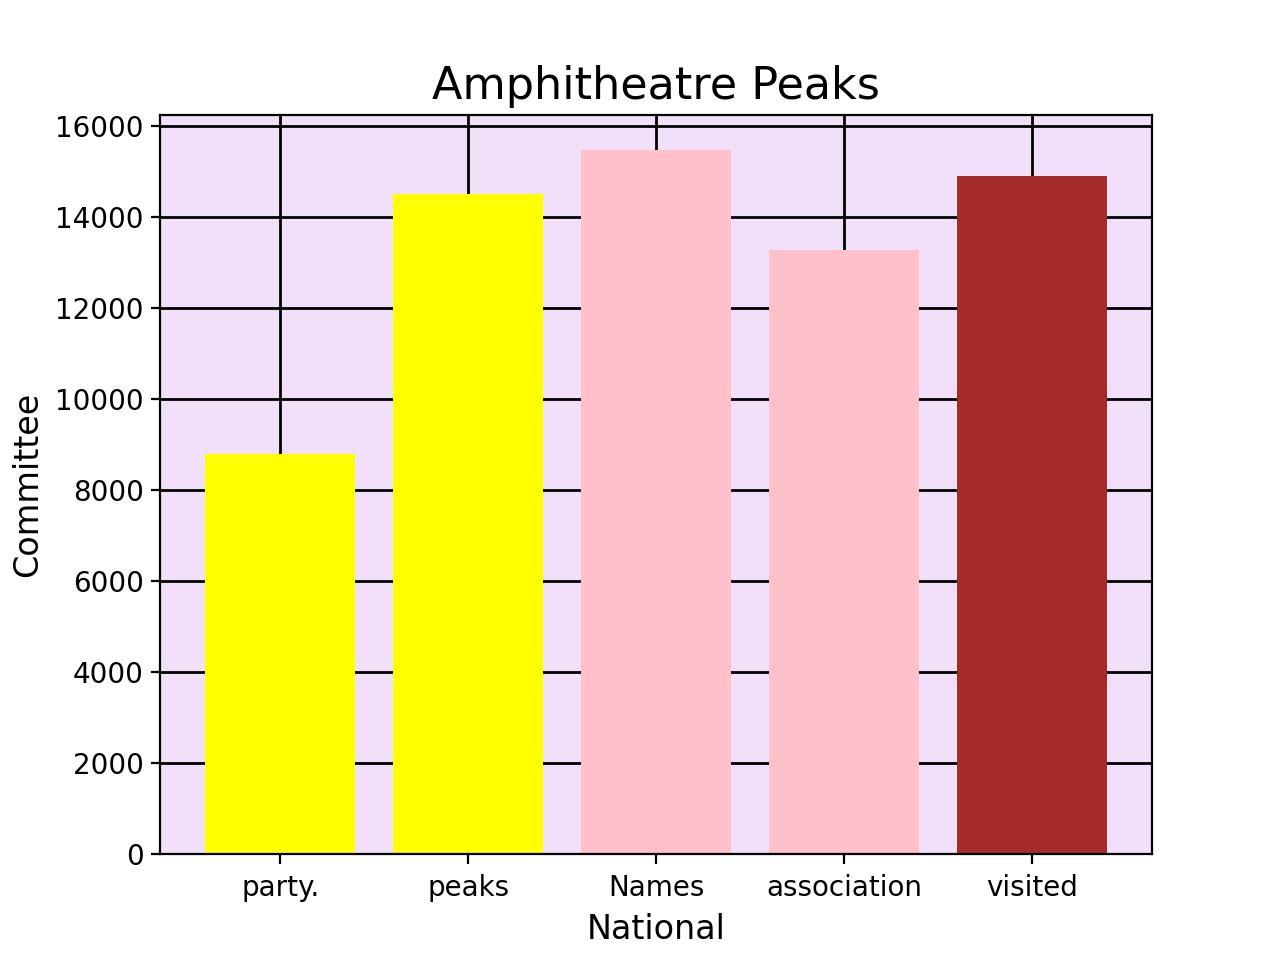axis: (11, 116, 144, 871)
rectangle: (581, 150, 731, 854), (957, 175, 1107, 854), (393, 194, 543, 854), (769, 250, 919, 854), (205, 454, 355, 854)
